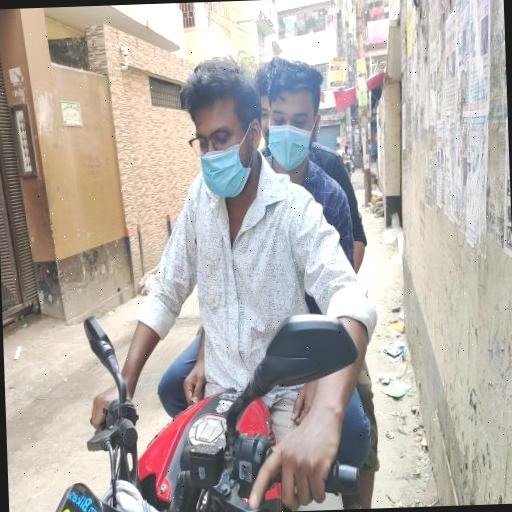no helmet: (170, 50, 288, 210)
triple riding: (11, 25, 422, 512)
